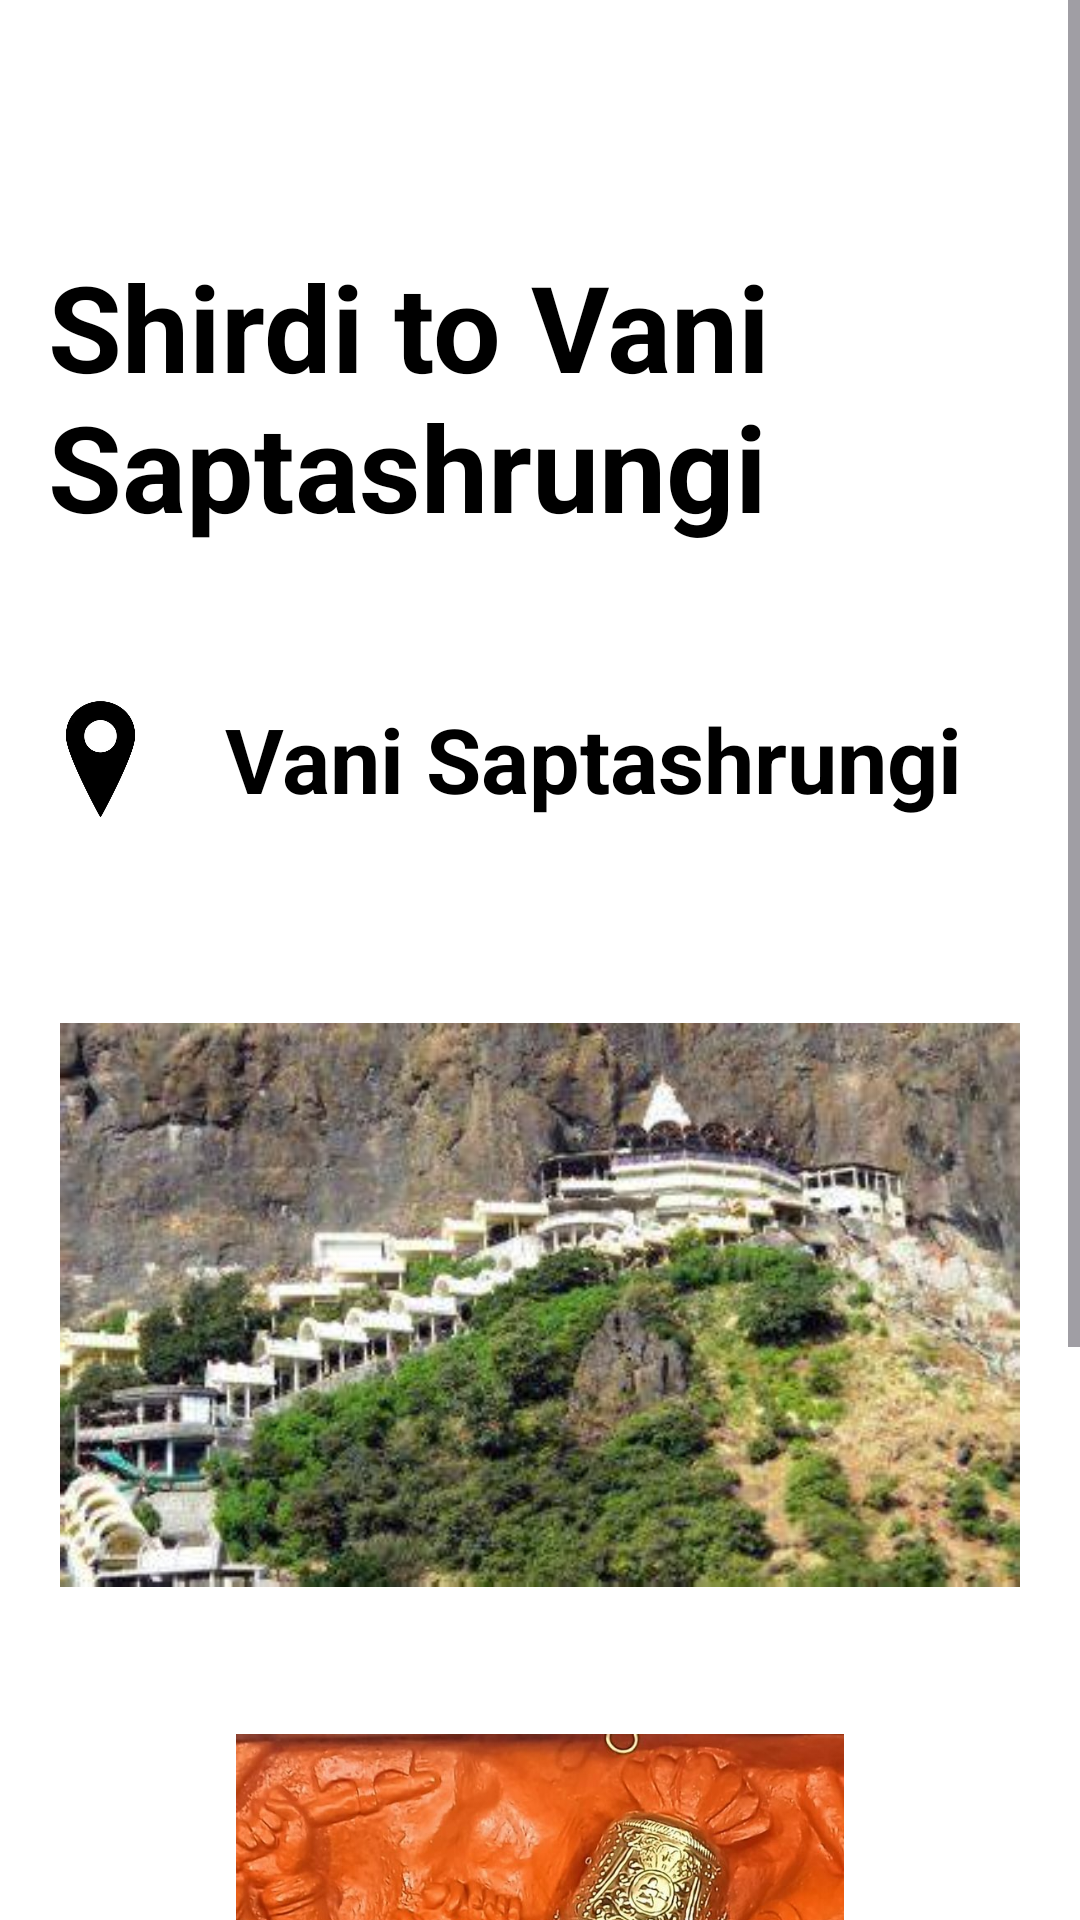

Screen size 1080px×1920px. Icon name, then its center in pixels as (x=x, y=y):
location: (x=100, y=759)
